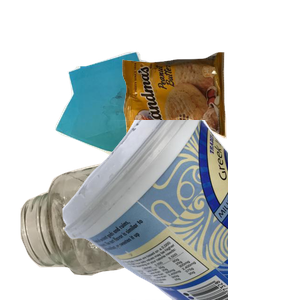glass: (18, 143, 227, 300)
paper: (52, 49, 209, 198)
plastic: (60, 120, 300, 300)
trash: (120, 50, 300, 182)
